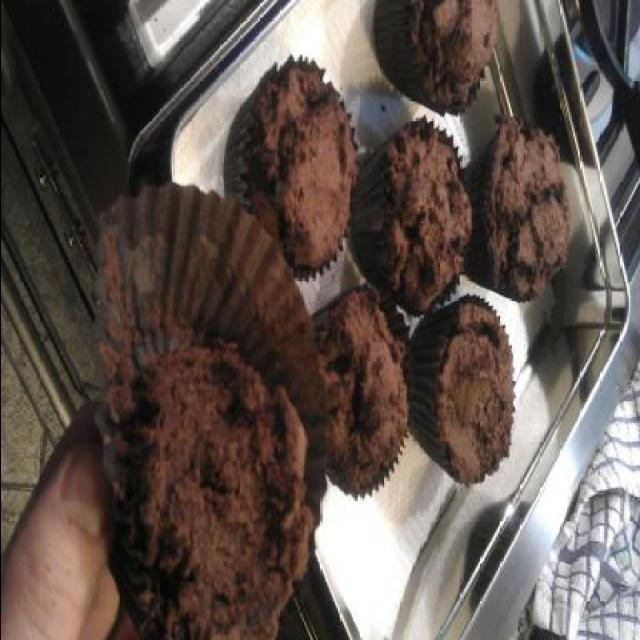Muffin: (220, 0, 572, 491), (124, 336, 314, 640)
